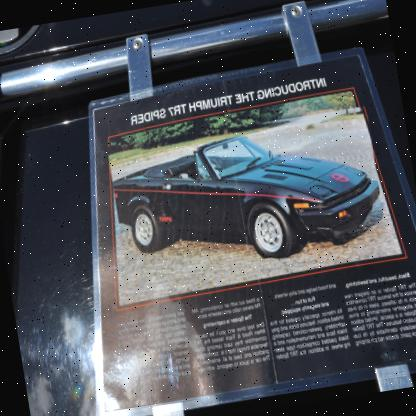Car: (106, 106, 386, 281)
